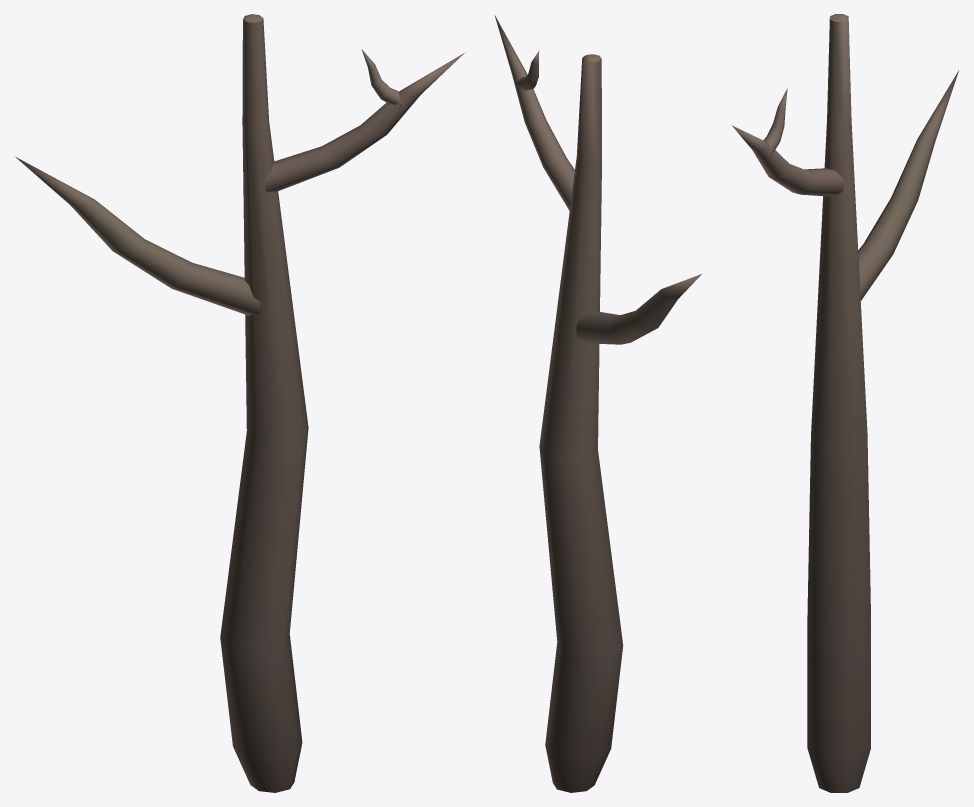
File: tree-dead-large.glb
The picture shows the model from 3 angles, left to right: view 1: azimuth 30°, elevation 25°; view 2: azimuth 150°, elevation 25°; view 3: azimuth 270°, elevation 25°; orthographic projection. The views are drawn at different scales.
Parts seen in each view (by area): view 1: tree_dead_large; view 2: tree_dead_large; view 3: tree_dead_large.
Boxes of the visible parts, <box> form: tree_dead_large: <box>15,14,464,792</box>; tree_dead_large: <box>494,15,701,792</box>; tree_dead_large: <box>732,14,958,792</box>.
Bounding box in the file's own units: 2.3 × 5.07 × 1.38.
1 material, 1 textured.
